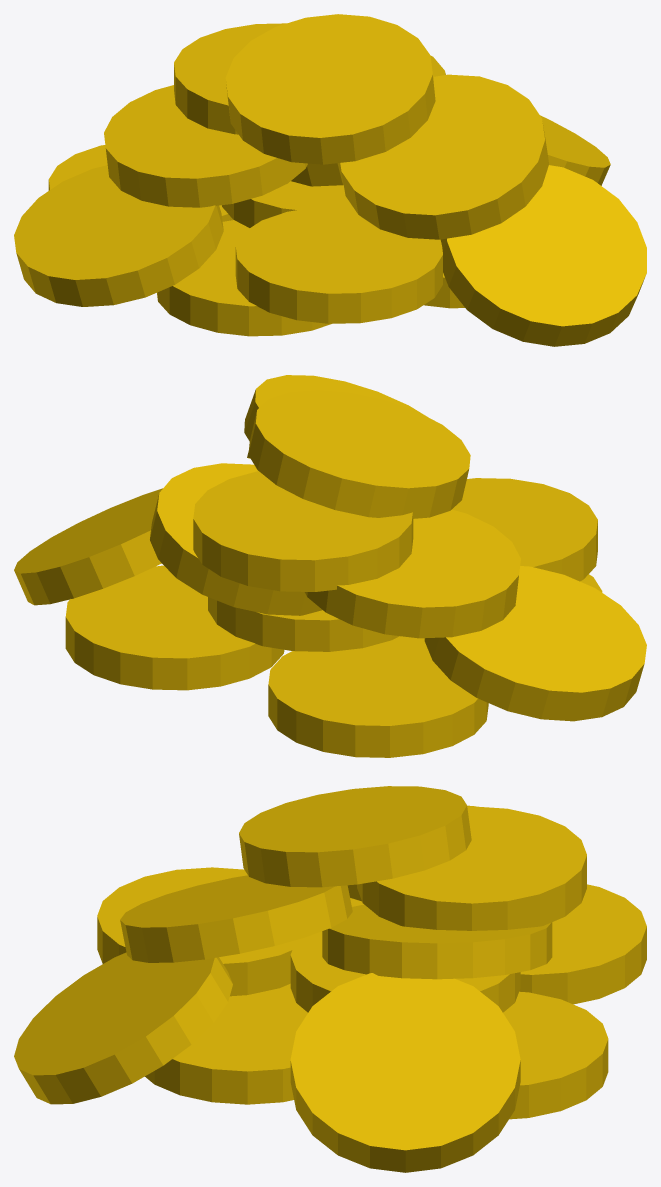
Rendered from gold.gltf.
3 views of the same model, one above another, from view 1: azimuth 30°, elevation 25°; view 2: azimuth 150°, elevation 25°; view 3: azimuth 270°, elevation 25° (orthographic). The views are drawn at different scales.
Parts seen in each view (by area): view 1: Cylinder.013, Cylinder.006, Cylinder.011, Cylinder.007, Cylinder.010, Cylinder.008, Cylinder, Cylinder.012, Cylinder.004, Cylinder.005, Cylinder.001, Cylinder.009 (+1 smaller); view 2: Cylinder.013, Cylinder.007, Cylinder.001, Cylinder.012, Cylinder.002, Cylinder.008, Cylinder.005, Cylinder.010, Cylinder.009, Cylinder.004, Cylinder.011; view 3: Cylinder.005, Cylinder.006, Cylinder.013, Cylinder.012, Cylinder.011, Cylinder.003, Cylinder.009, Cylinder.002, Cylinder.001, Cylinder.010, Cylinder.004.
Part boxes in pixels (<box>): Cylinder.013: <box>225,14,435,164</box>; Cylinder.006: <box>440,165,646,346</box>; Cylinder.011: <box>340,74,548,239</box>; Cylinder.007: <box>14,165,223,306</box>; Cylinder.010: <box>235,206,442,323</box>; Cylinder.008: <box>104,85,307,207</box>; Cylinder: <box>157,220,331,336</box>; Cylinder.012: <box>174,23,286,134</box>; Cylinder.004: <box>222,181,351,227</box>; Cylinder.005: <box>540,115,610,185</box>; Cylinder.001: <box>48,145,233,221</box>; Cylinder.009: <box>291,56,445,186</box>; Cylinder.013: <box>248,390,470,518</box>; Cylinder.007: <box>424,566,646,721</box>; Cylinder.001: <box>268,636,488,757</box>; Cylinder.012: <box>193,471,413,591</box>; Cylinder.002: <box>65,565,284,690</box>; Cylinder.008: <box>304,509,520,638</box>; Cylinder.005: <box>14,488,162,605</box>; Cylinder.010: <box>452,478,597,581</box>; Cylinder.009: <box>150,463,322,615</box>; Cylinder.004: <box>208,597,399,651</box>; Cylinder.011: <box>244,375,427,440</box>; Cylinder.005: <box>290,973,520,1172</box>; Cylinder.006: <box>14,952,232,1104</box>; Cylinder.013: <box>239,786,471,887</box>; Cylinder.012: <box>357,806,586,930</box>; Cylinder.011: <box>120,875,352,962</box>; Cylinder.003: <box>145,983,307,1104</box>; Cylinder.009: <box>322,904,552,979</box>; Cylinder.002: <box>503,991,608,1119</box>; Cylinder.001: <box>519,884,646,1004</box>; Cylinder.010: <box>97,867,317,996</box>; Cylinder.004: <box>290,931,520,1012</box>.
Size of the model in its own units: 0.5295 by 0.1853 by 0.4639.
